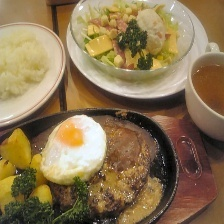rice: (0, 28, 52, 101)
